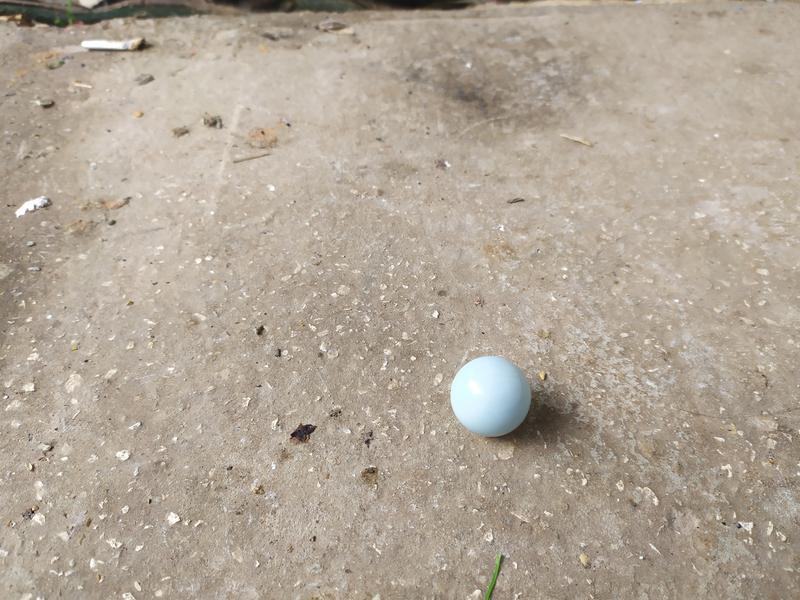Warning: (447, 352, 536, 441)
